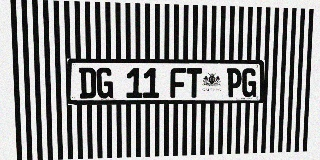1: (126, 68, 142, 98), (143, 68, 159, 98)
D: (79, 67, 96, 99)
F: (170, 68, 186, 98)
G: (96, 68, 113, 98), (242, 68, 257, 97)
P: (226, 68, 242, 97)
T: (186, 68, 202, 98)
